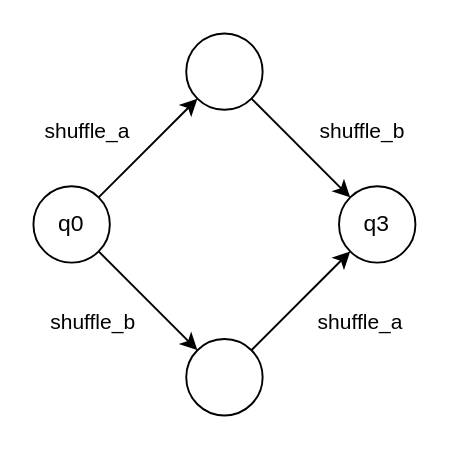
Image size: 449x449. Some labels were removed from this diagram. The shapes that lost their labels are listed below. From the top down, each one's centre as x and y in pixels, then its label:
At pixel 223 71: "q1".
At pixel 223 376: "q2".
